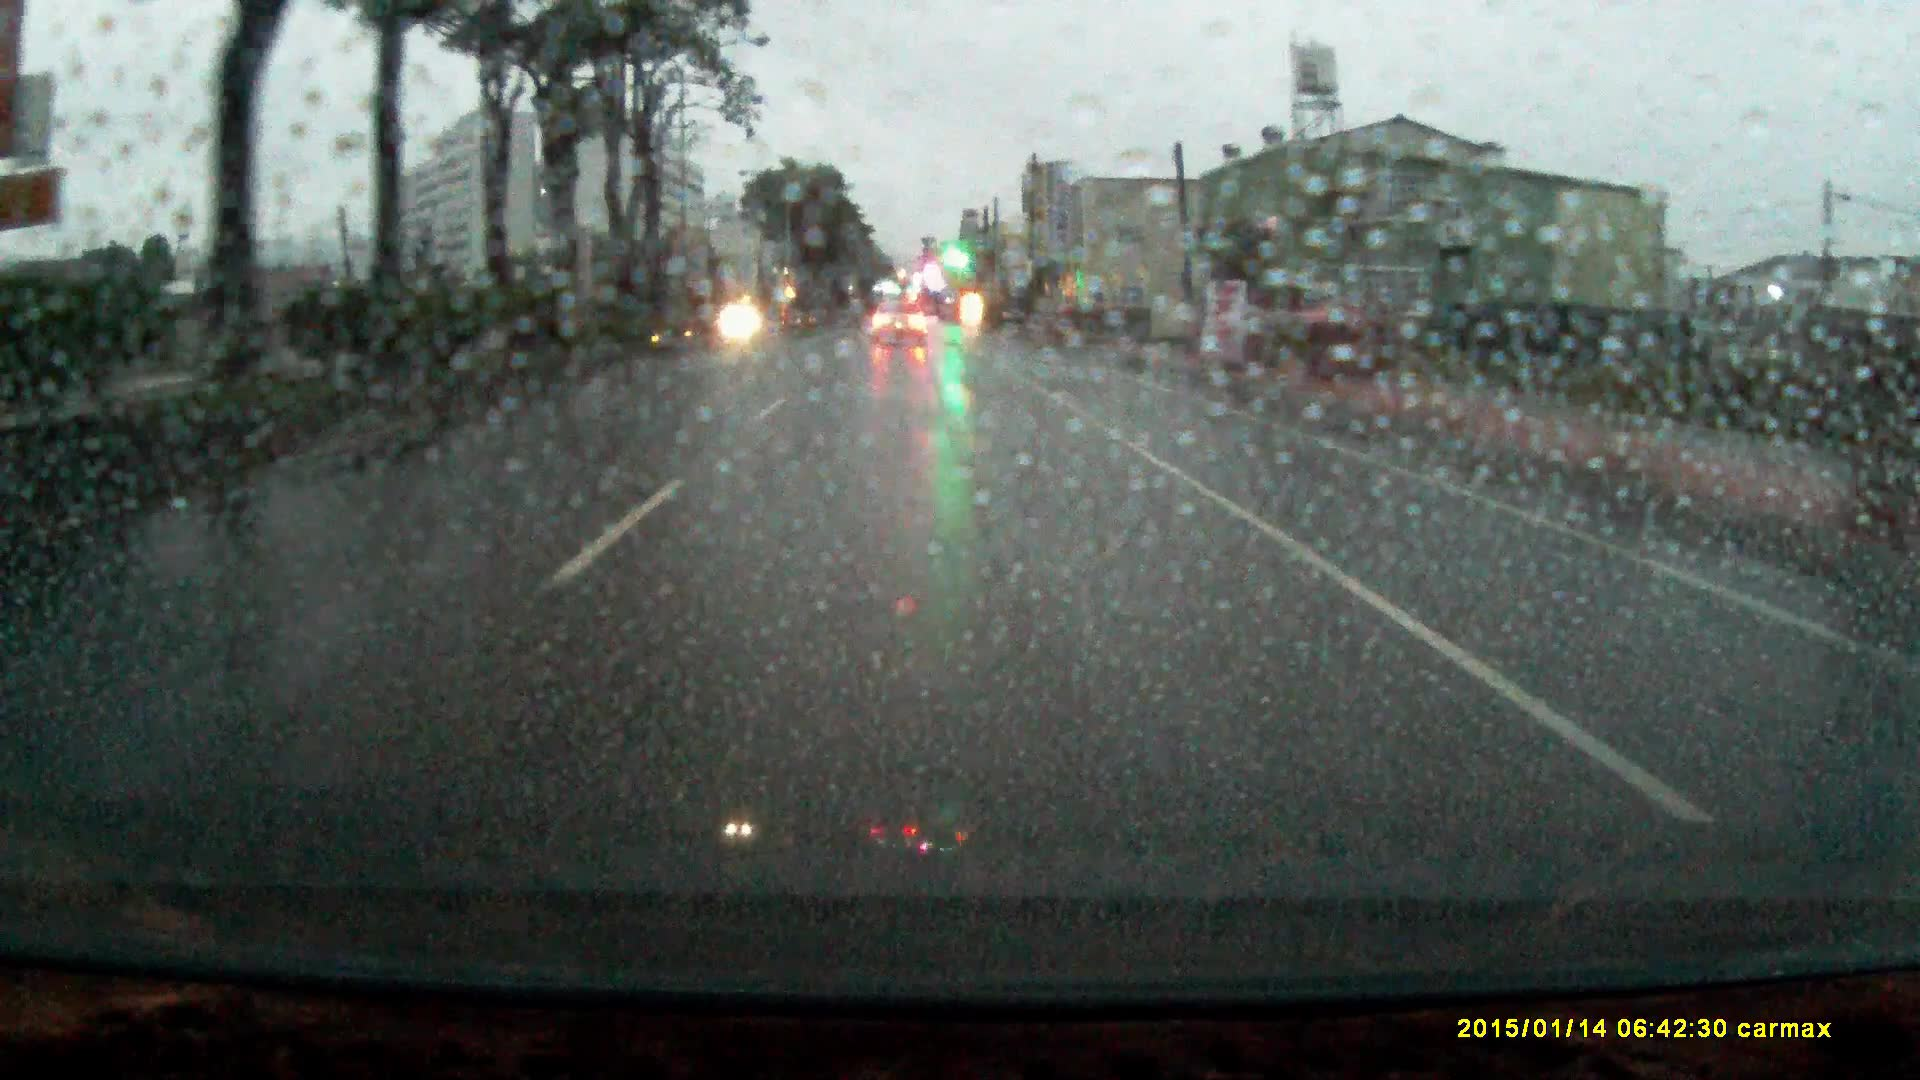vehicle: (872, 299, 930, 342)
